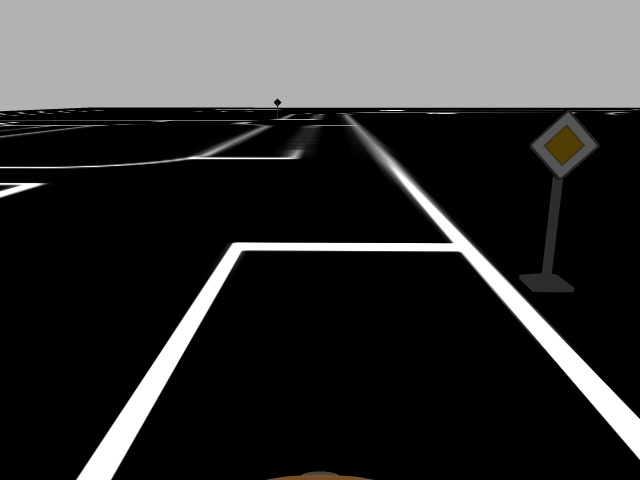priority: (529, 110, 598, 181)
